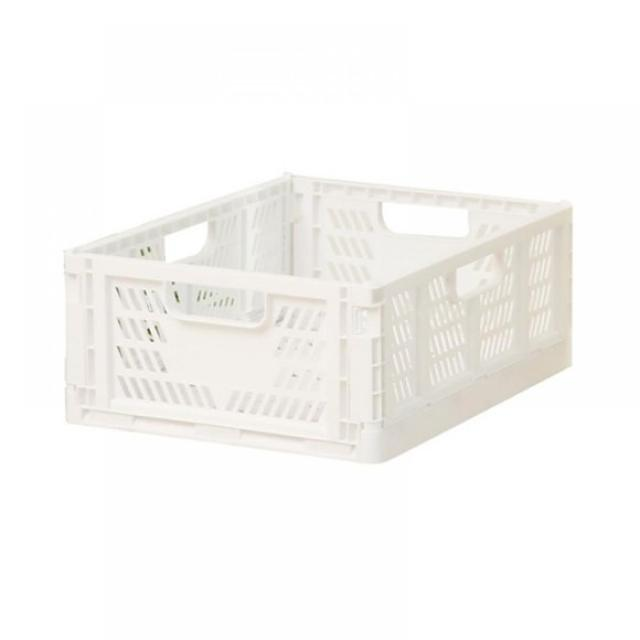basket: (47, 154, 587, 481)
